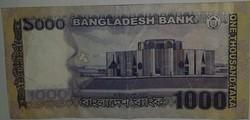1000 taka: (1, 7, 250, 119)
